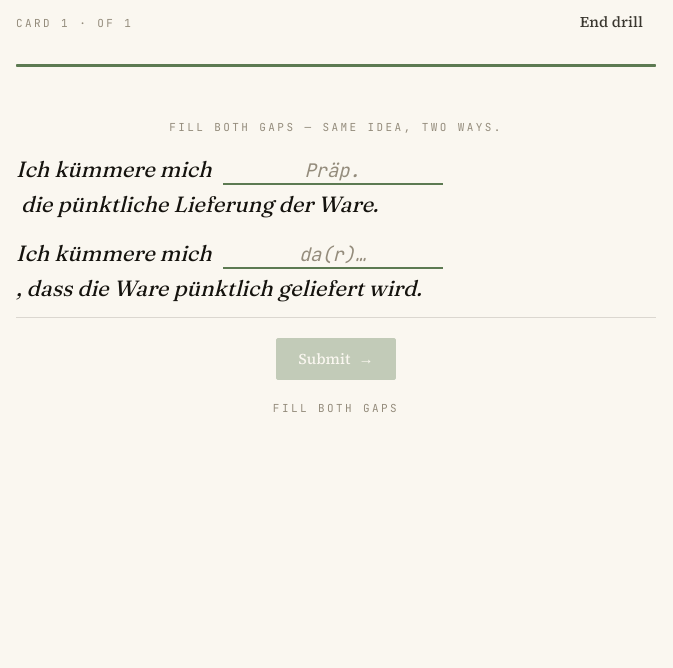
Test: ParaphraseRunner — smoke tests › shows per-slot ✓/✗ and the reveal explanation when only one slot is wrong
The width and height of the screenshot is (673, 668).
Type "totally-wrong" into the field with placeholder "Präp." at x=332, y=171, box x1=222 y1=158 x2=442 y2=185
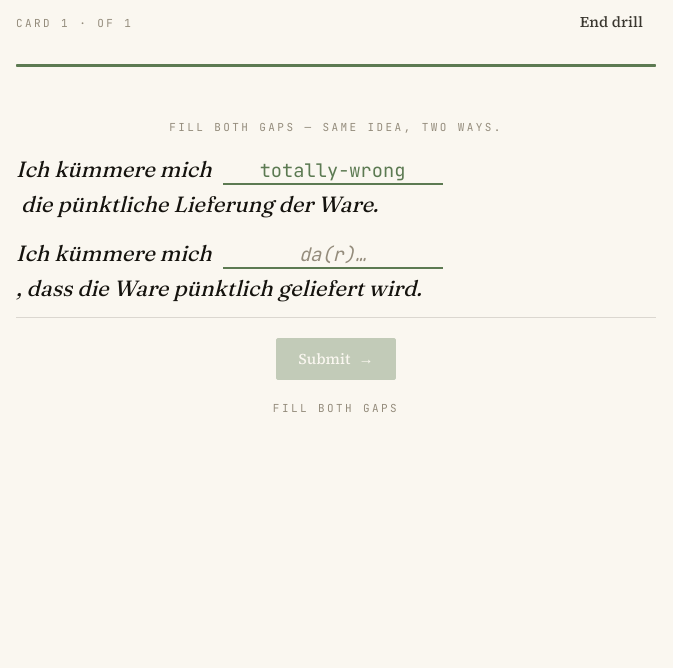
Type "darum" into the field with placeholder "da(r)…" at x=332, y=255, box x1=222 y1=242 x2=442 y2=269
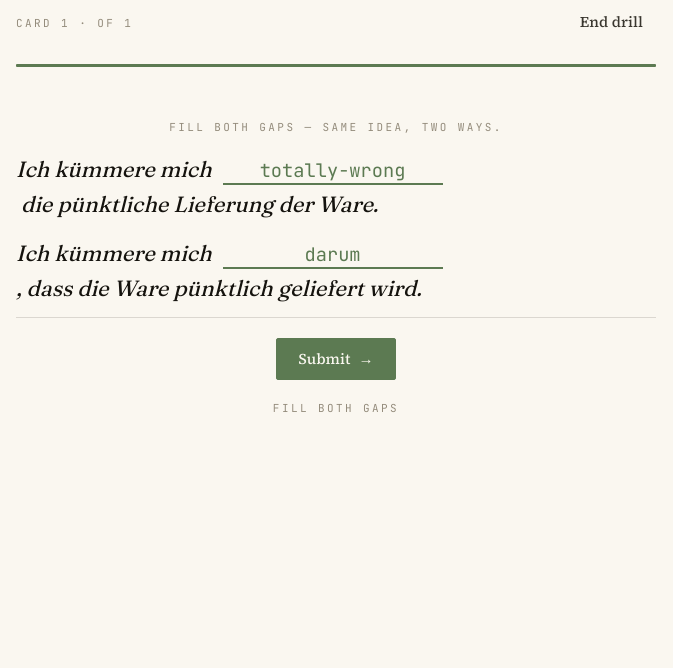
Click the button "Submit →" at x=336, y=359, box x1=276 y1=338 x2=396 y2=380
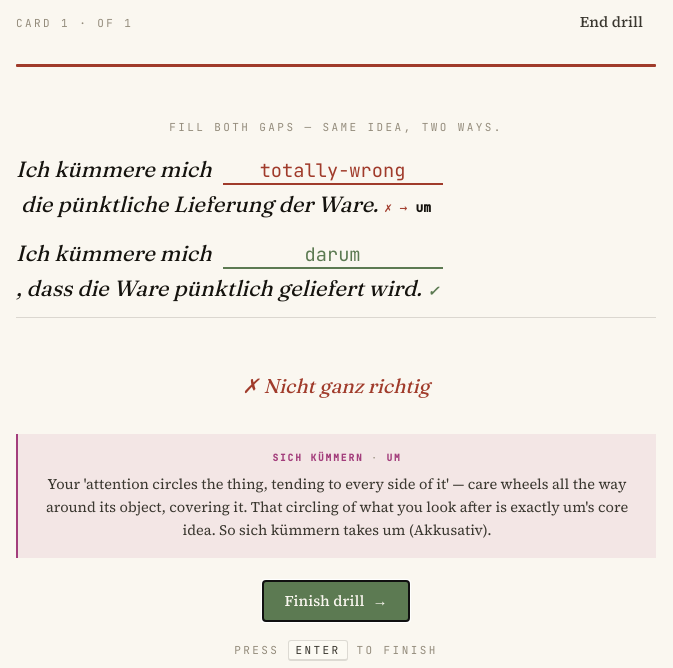
Now the text "✗ Nicht ganz richtig" is shown, box x1=242 y1=370 x2=430 y2=402
Now the text "✓" is shown, box x1=428 y1=281 x2=439 y2=302
Now the element showing "✗ → um" is shown, box x1=384 y1=198 x2=431 y2=217
